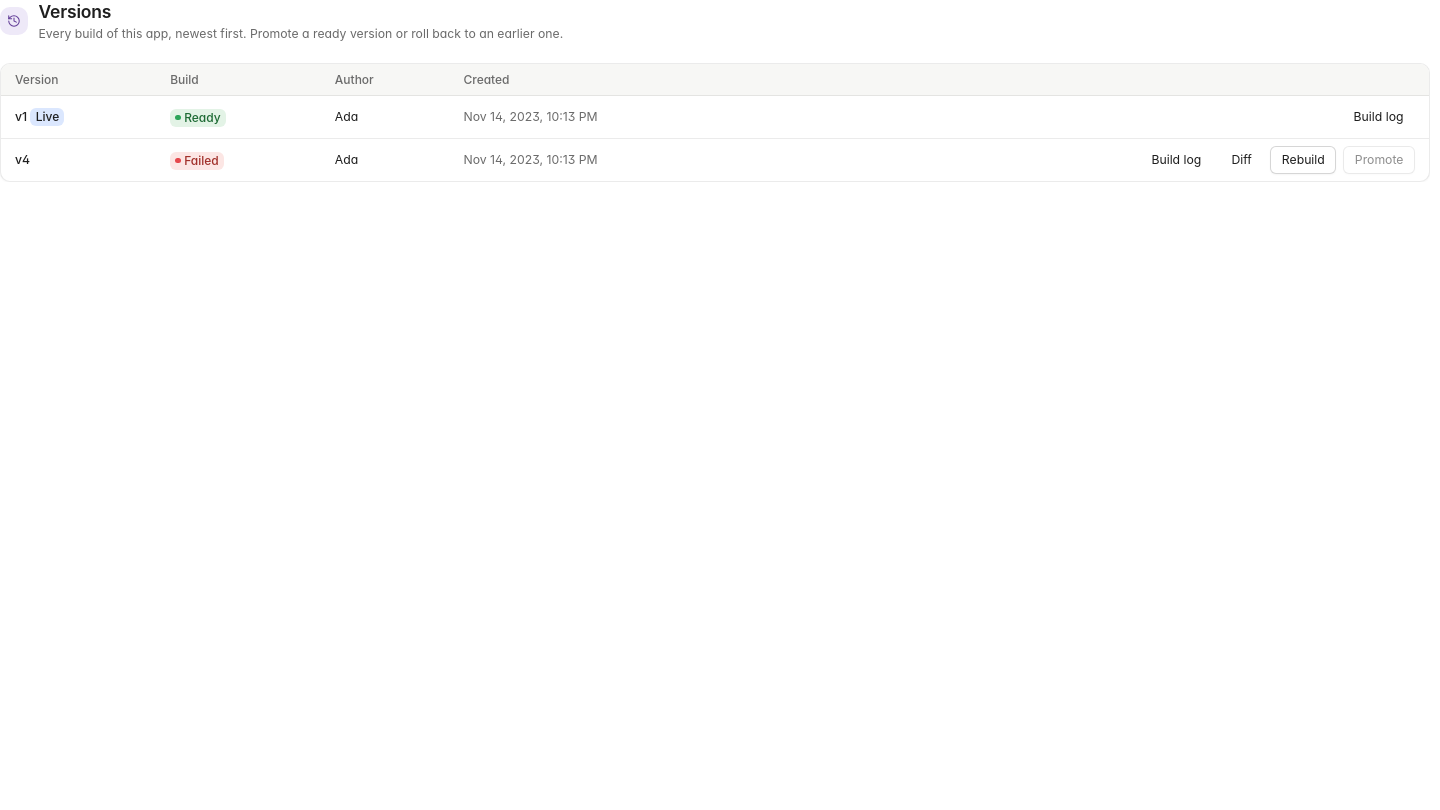
Scenario: VersionsView › rebuild failed version shows new build log
Click the button with aria-label "Rebuild version 4". click: x=1303, y=160
box: left=1270, top=146, right=1336, bottom=174
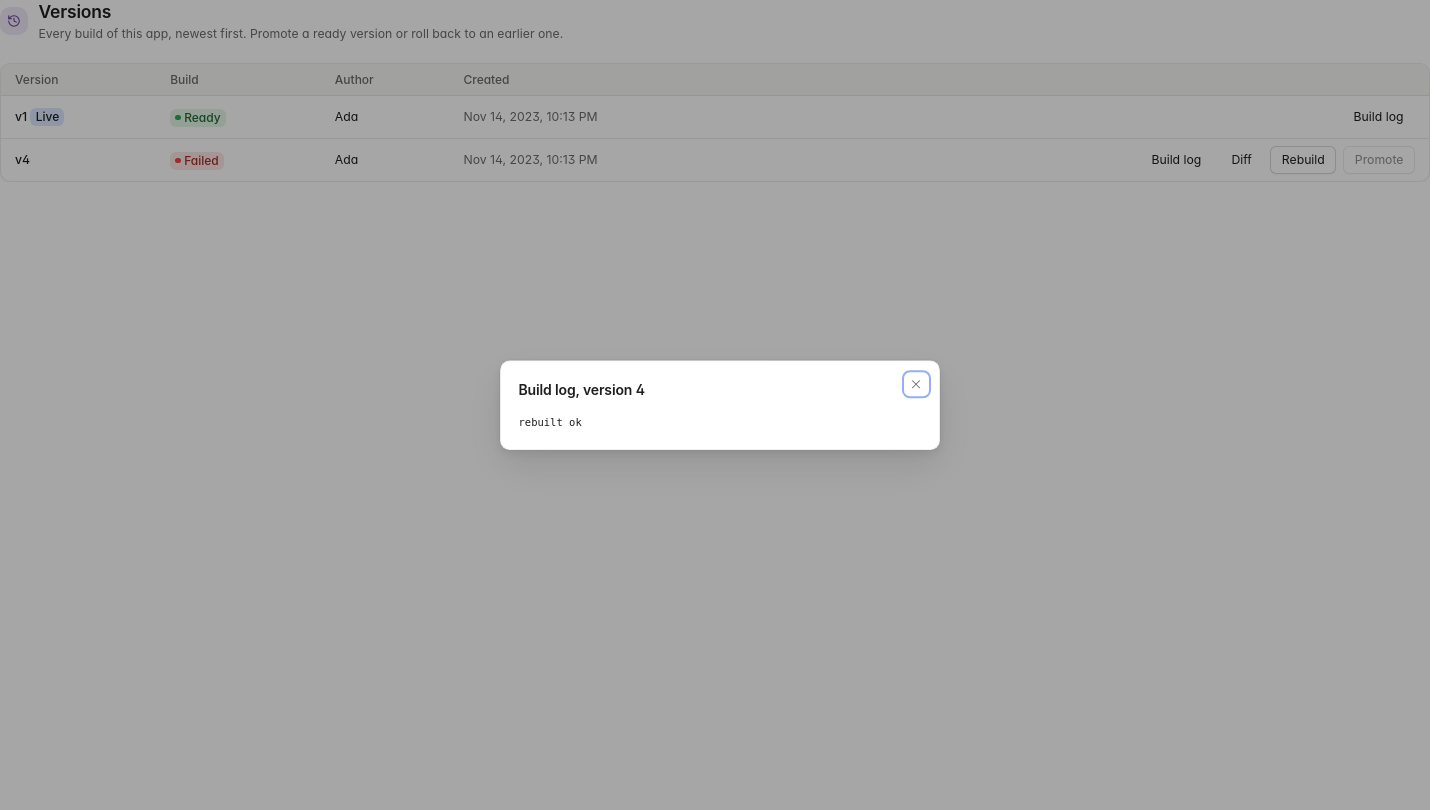
Expected: the text "rebuilt ok" is shown, left=518, top=416, right=582, bottom=428
